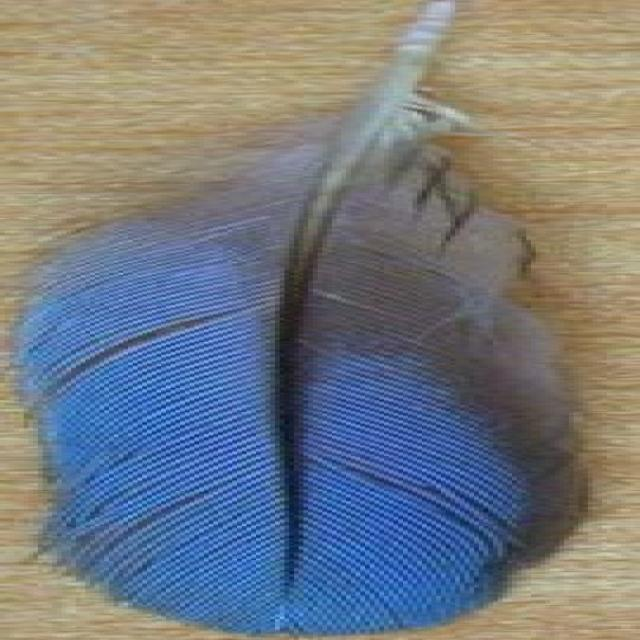feather: (41, 0, 616, 640)
